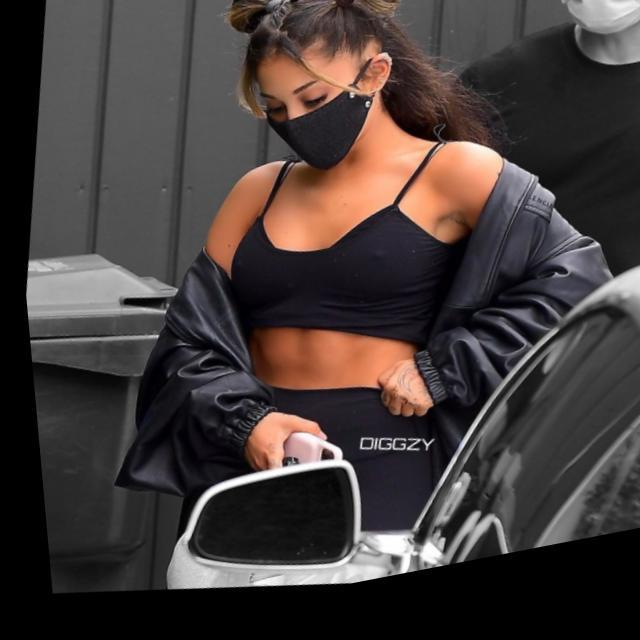Nonhelmet: (218, 0, 412, 178)
